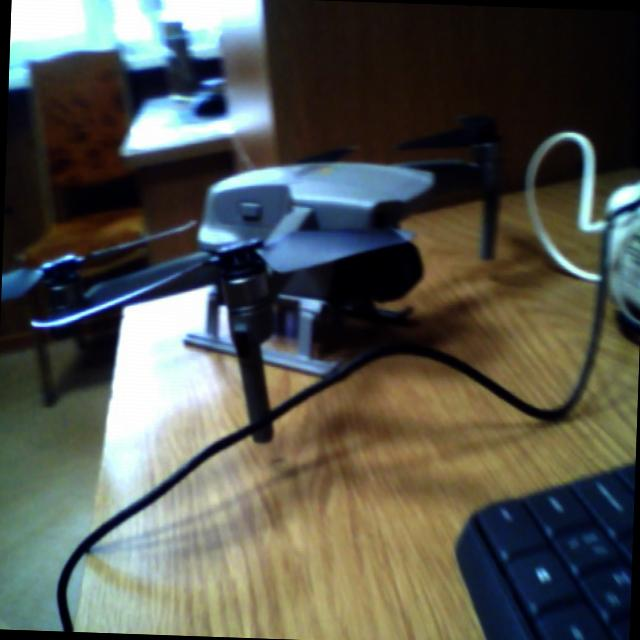drone: (0, 82, 559, 436)
